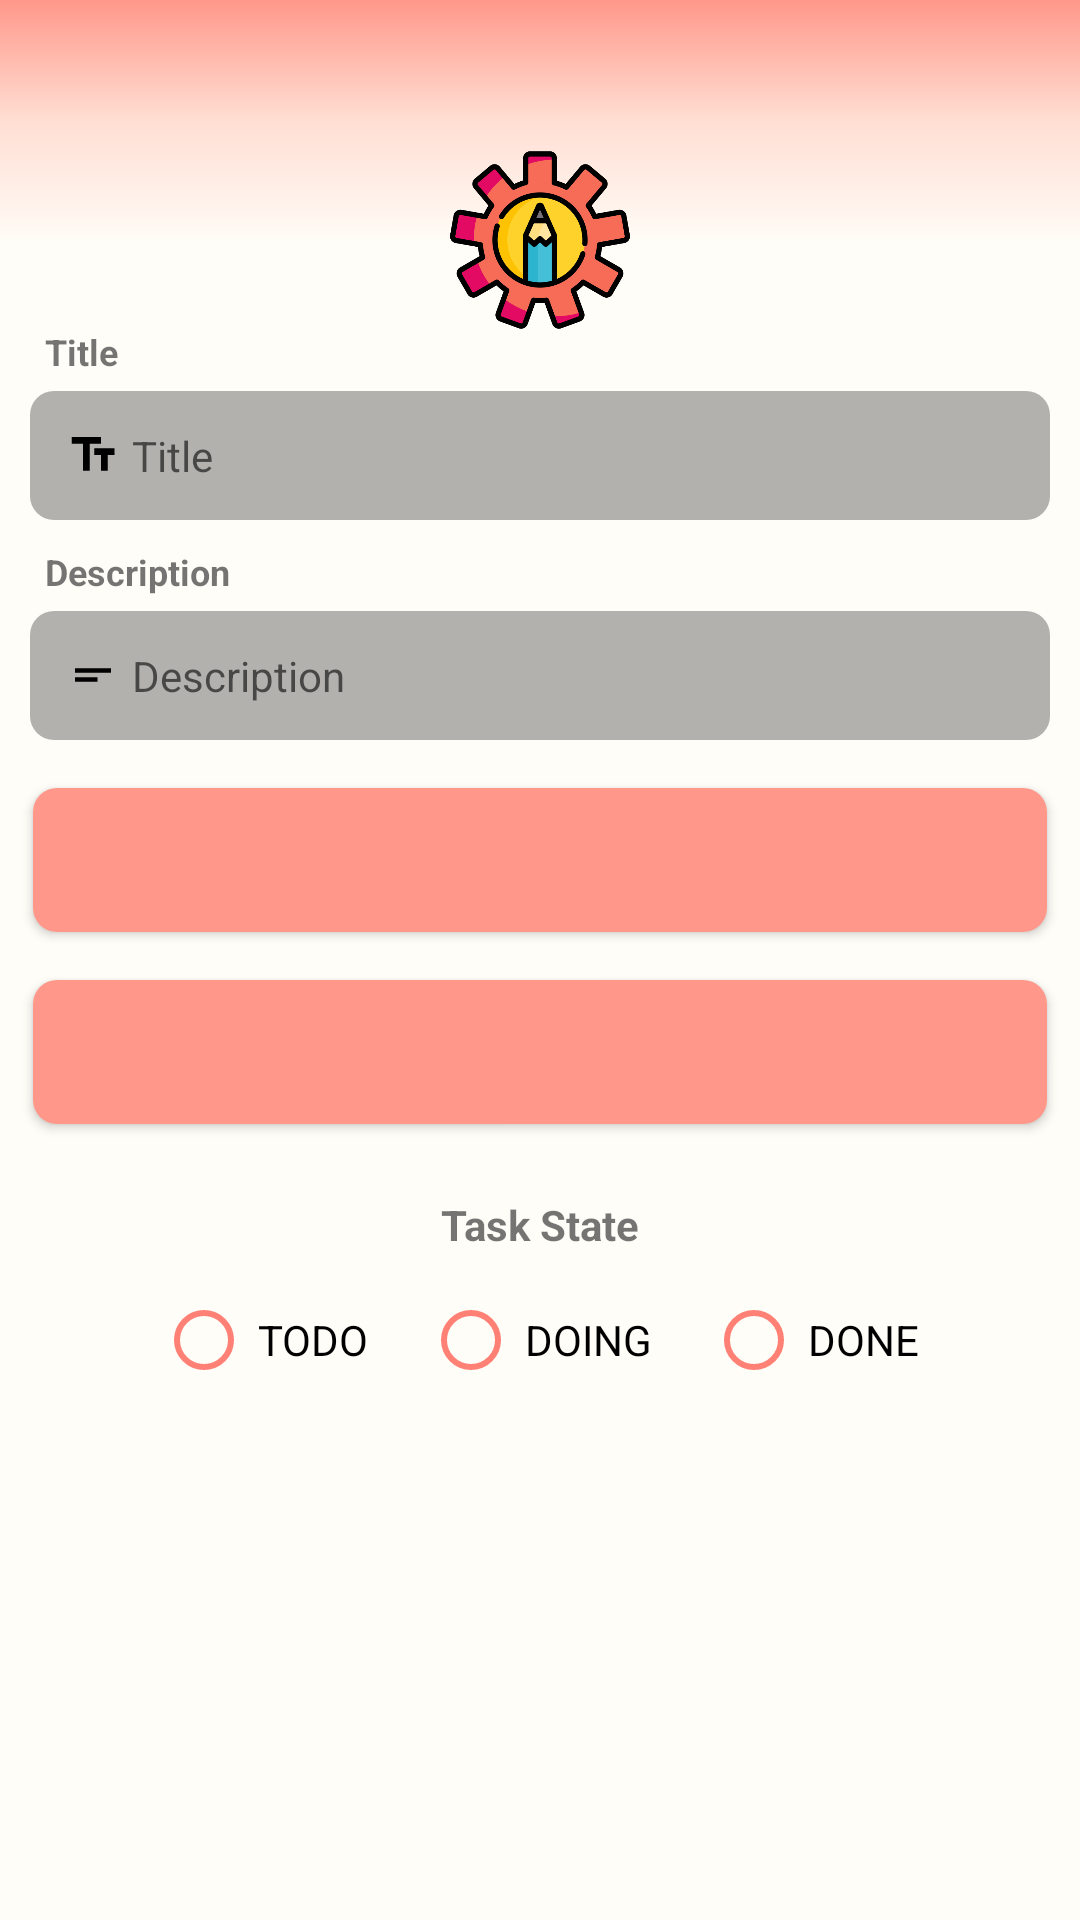

Locate icon controls on the screen. Image size 1080 × 1920, boxes as (x1, y1, x2, y2).
Task edit image: (450, 150, 630, 329)
